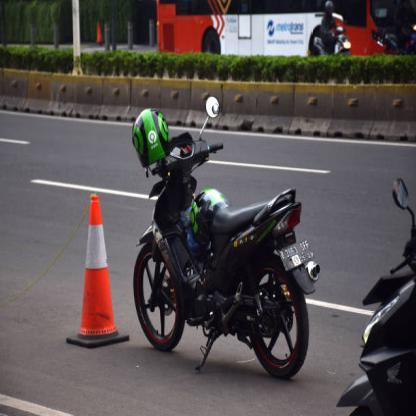Motorcycle: (128, 98, 317, 382)
